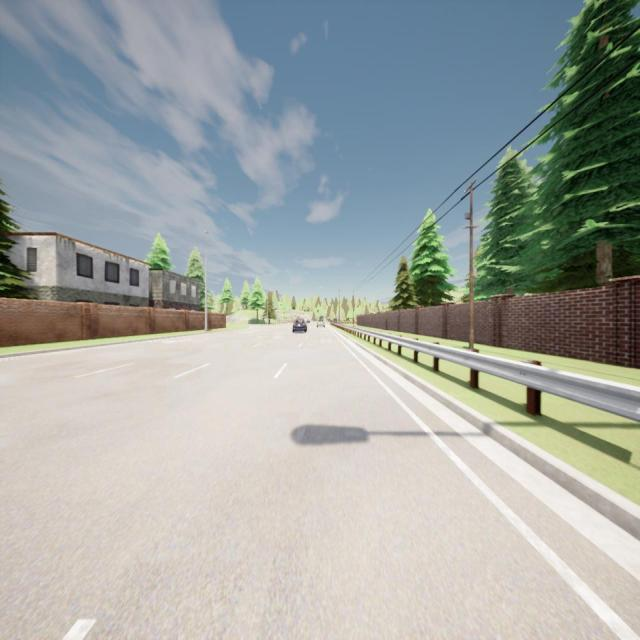Vehicle: (292, 319, 307, 333), (316, 318, 326, 329), (306, 320, 311, 324)
